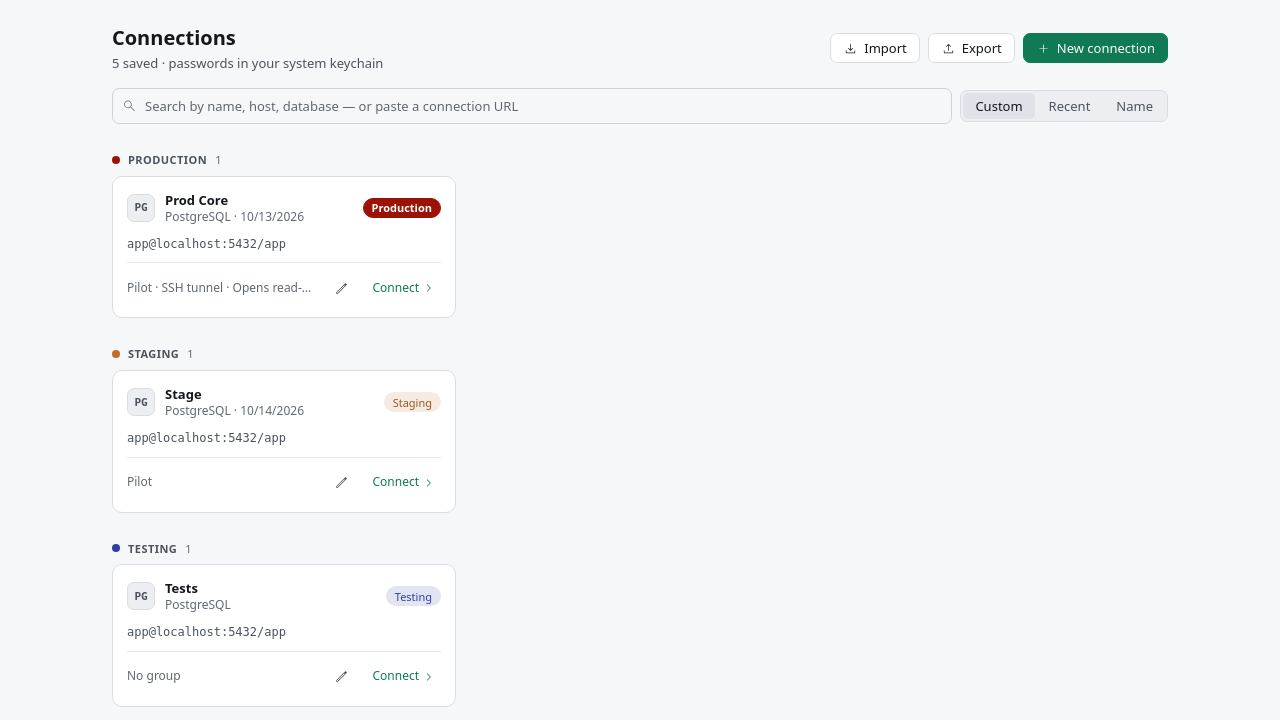
Test: Home › opens the edit form from the card's edit button without connecting
What coordinates should you click on to do the following:
click the button named "Edit Stage"
I would click on:
 (342, 482)
Its box is [326,468,356,498].
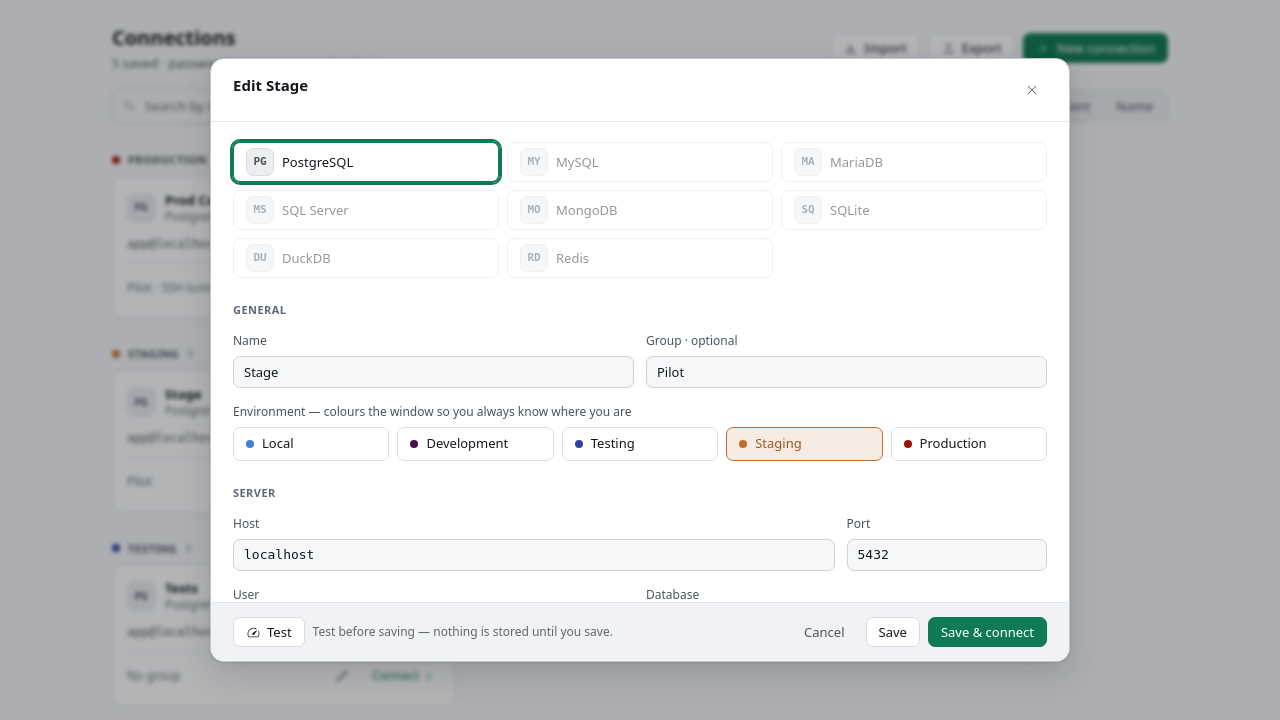
Expected: the dialog "Edit Stage" is shown, [210,58,1070,662]
